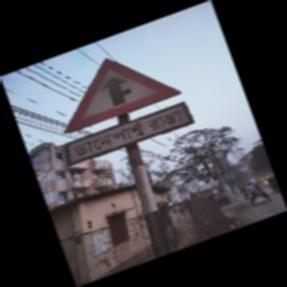Side-road-right: (65, 58, 193, 164)
